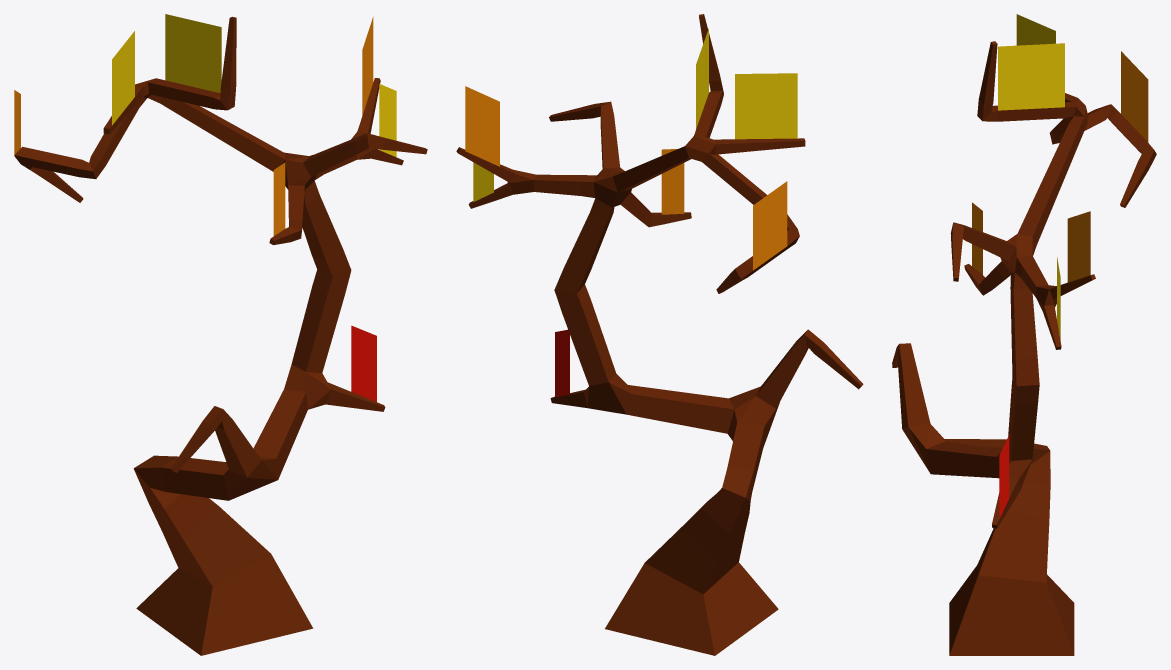
File: Firetree3.obj
3 views of the same model, side by side, from view 1: azimuth 30°, elevation 25°; view 2: azimuth 150°, elevation 25°; view 3: azimuth 270°, elevation 25° (orthographic). The views are drawn at different scales.
Visible parts, largest first — view 1: Cube; view 2: Cube; view 3: Cube.
Part boxes in pixels (x1,y1,x2,y2): Cube: (14,14,427,655); Cube: (456,14,863,655); Cube: (892,14,1156,655).
Bounding box in the file's own units: 3.99 × 6.39 × 2.61.
1 material, 1 textured.
